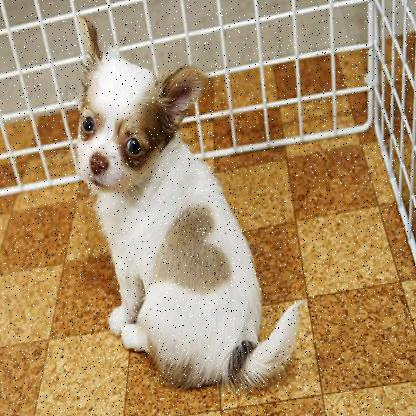dog: (64, 6, 308, 398)
